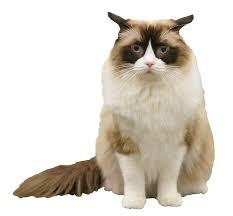ragdoll: (96, 1, 203, 111)
